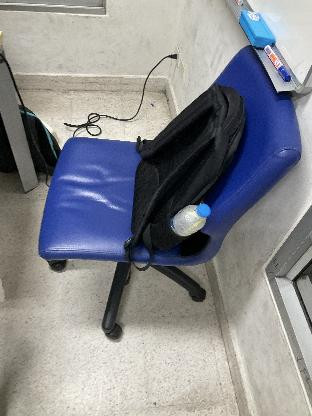Plastic Bottle: (168, 199, 209, 241)
